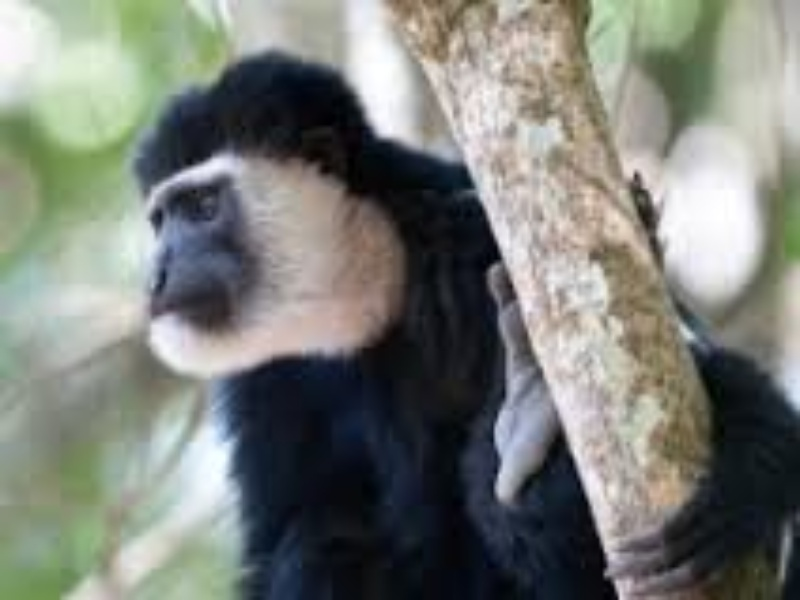monkey: (109, 46, 788, 590)
